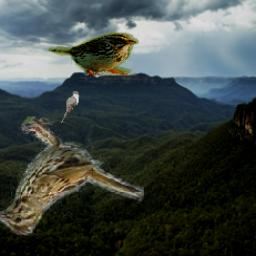Cuckoo: (60, 90, 79, 124)
Sparrow: (0, 116, 144, 236), (48, 34, 137, 77)
